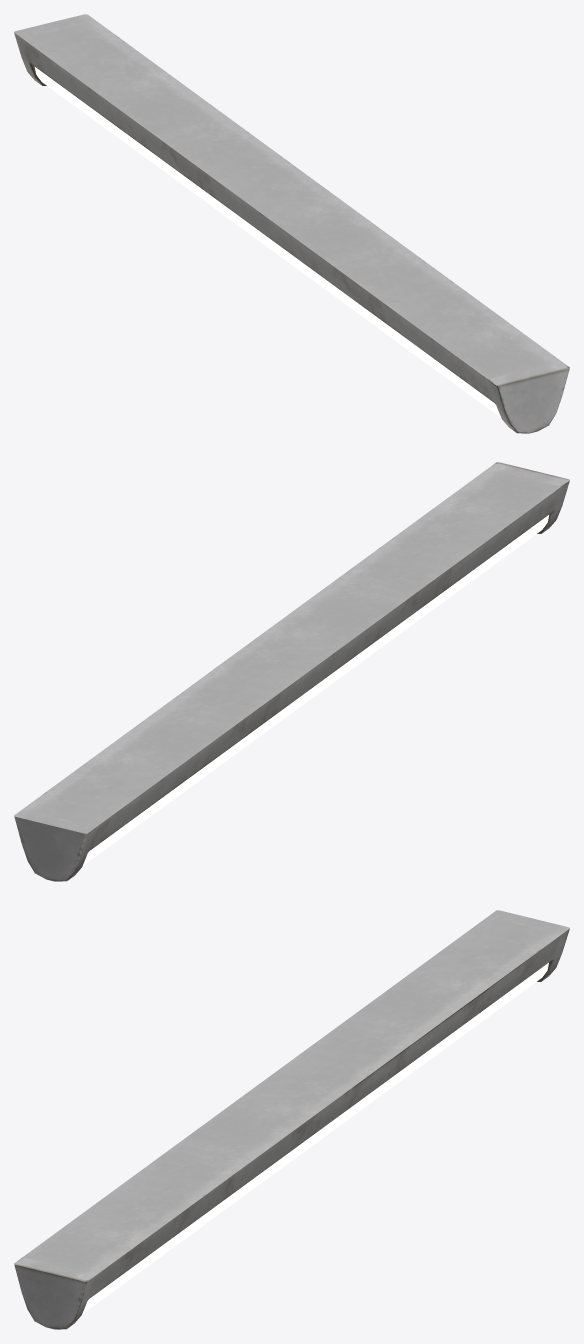
Rendered from SM_CeilingLamp_01.fbx.
3 views of the same model, one above another, from view 1: azimuth 30°, elevation 25°; view 2: azimuth 150°, elevation 25°; view 3: azimuth 330°, elevation 25° (orthographic).
Visible parts, largest first — view 1: SM_CeilingLamp_01_LOD0; view 2: SM_CeilingLamp_01_LOD0; view 3: SM_CeilingLamp_01_LOD0.
Boxes of the visible parts, box(x1,y1,x2,y2) form: SM_CeilingLamp_01_LOD0: box(14, 14, 569, 433); SM_CeilingLamp_01_LOD0: box(14, 462, 569, 881); SM_CeilingLamp_01_LOD0: box(14, 910, 569, 1329).
Bounding box in the file's own units: 8.79 × 100 × 6.4.
1 material, 1 textured.
